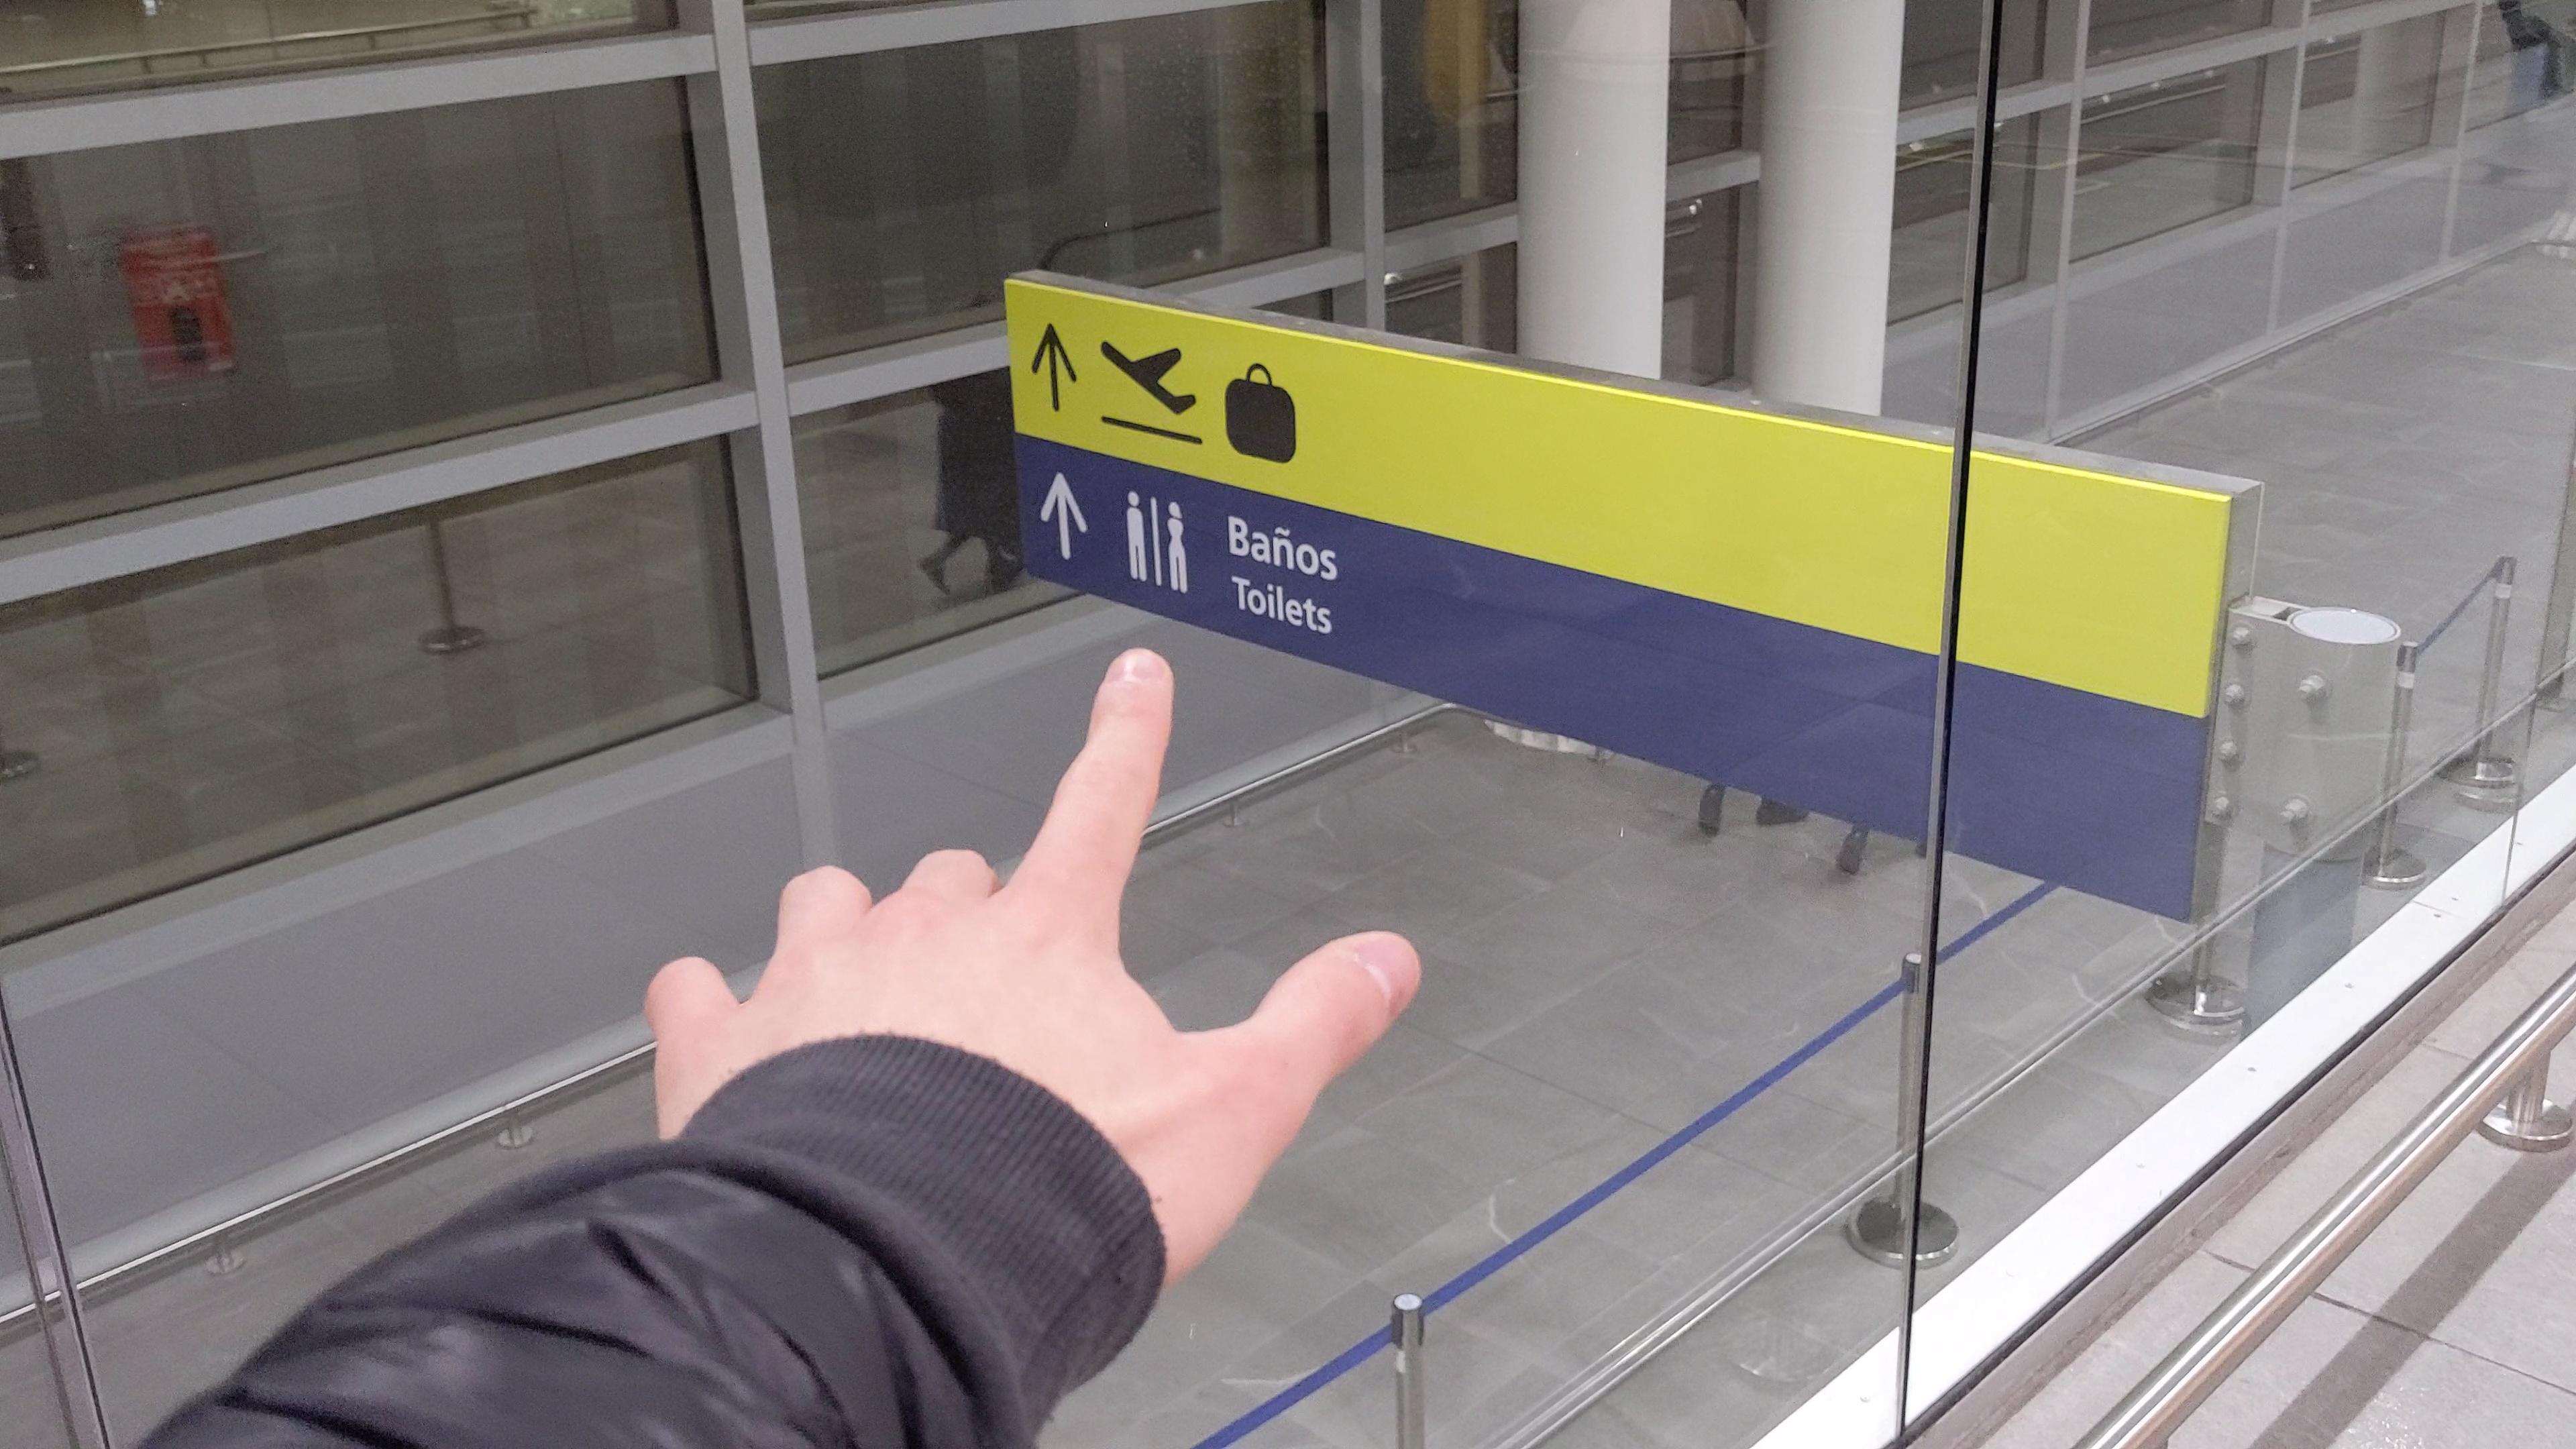airplane symbol: (1093, 334, 1203, 419)
baggage claim: (1221, 361, 1302, 465)
bathrooms: (1122, 487, 1194, 594)
thin up arrow: (1035, 469, 1092, 561)
up arrow: (1028, 322, 1081, 414)
